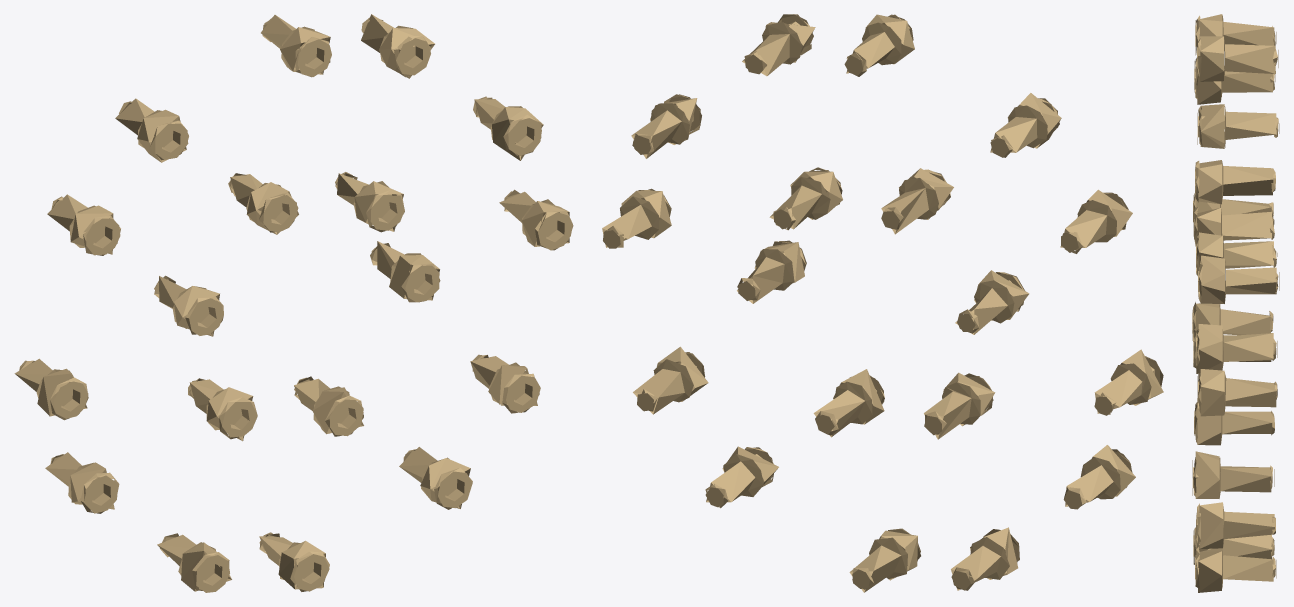
The model's file is rear_right_wheel_153.dae.
The picture shows the model from 3 angles, left to right: view 1: azimuth 30°, elevation 25°; view 2: azimuth 150°, elevation 25°; view 3: azimuth 270°, elevation 25°; orthographic projection. The views are drawn at different scales.
Parts seen in each view (by area): view 1: node; view 2: node; view 3: node.
Part boxes in pixels (bbox=[...]): node: bbox=[14, 14, 573, 592]; node: bbox=[602, 14, 1163, 592]; node: bbox=[1192, 14, 1279, 592].
Bounding box in the file's own units: 0.1724 × 0.0258 × 0.1737.
